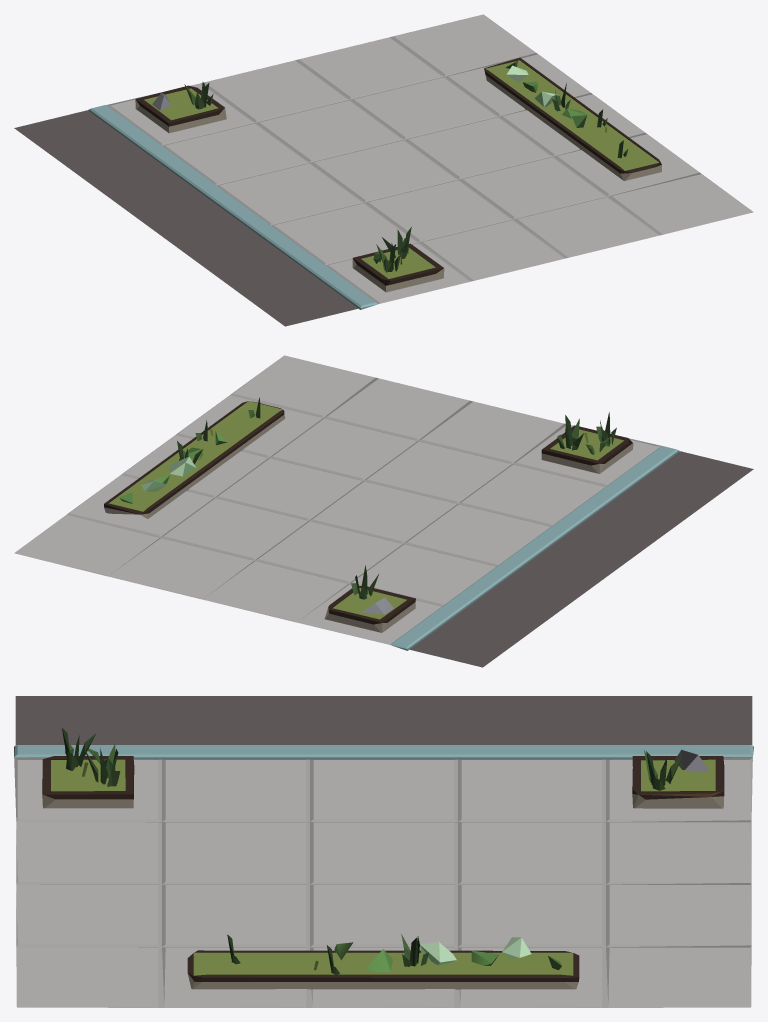
Rendered from QmSLLenWDyuajpEar3dbfLMFvXYmiQTtKQLwVztFc1Kwvi_lod2.fbx.
3 views of the same model, one above another, from view 1: azimuth 30°, elevation 25°; view 2: azimuth 150°, elevation 25°; view 3: azimuth 270°, elevation 25° (orthographic). The views are drawn at different scales.
Parts seen in each view (by area): view 1: Entity_512; view 2: Entity_512; view 3: Entity_512.
Part boxes in pixels (x1,y1,x2,y2): Entity_512: (14,14,753,326); Entity_512: (14,355,753,667); Entity_512: (14,696,753,1007).
Bounding box in the file's own units: 15918 × 1380 × 16000.
Materials: 1 (1 with a texture image).
